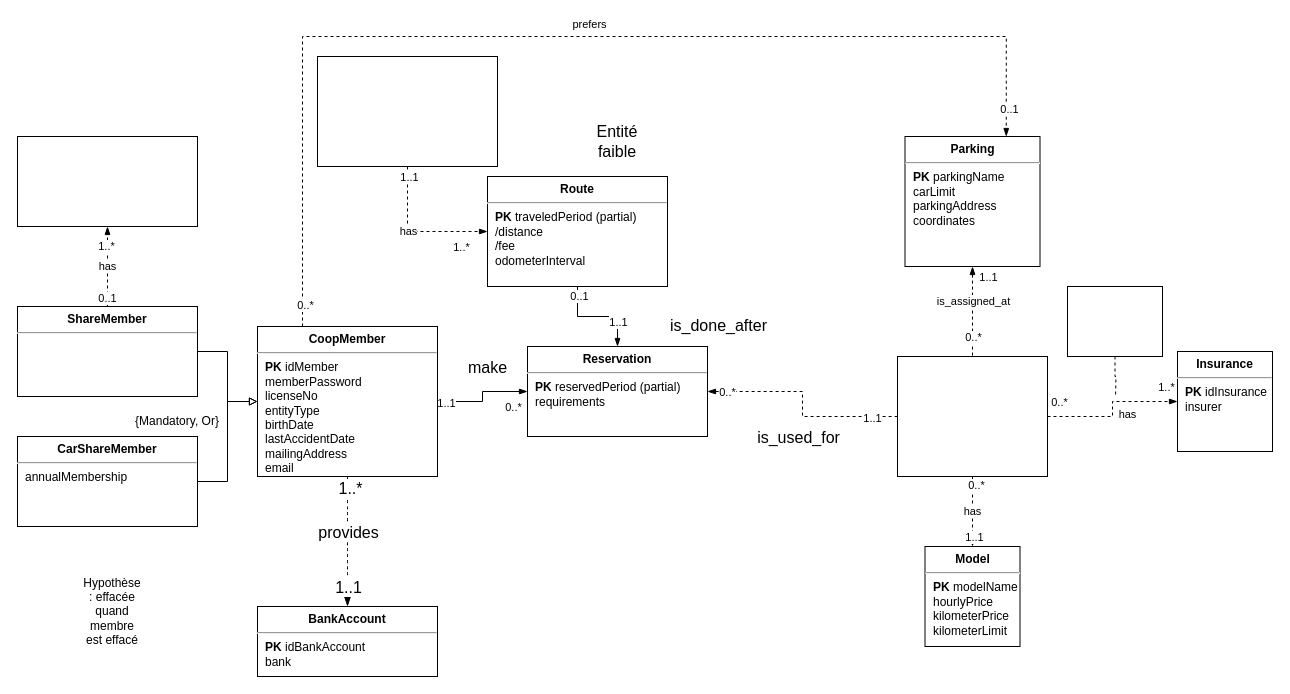
The diagram is 1290 pixels wide and 694 high, and some of its shapes have lost their labels. The shapes that lost their labels are listed below. From the top down, each one's centre as x and y in pixels, then its label:
At pixel 407 111: "Bill PK idBill dateBill dueDate /total isPaid".
At pixel 107 181: "CoopShare PK idShare individualSum".
At pixel 1114 321: "dateStart dateEnd".
At pixel 972 416: "Car PK licensePlate brand startingDate gazConsumption powerRecharge odometer".
